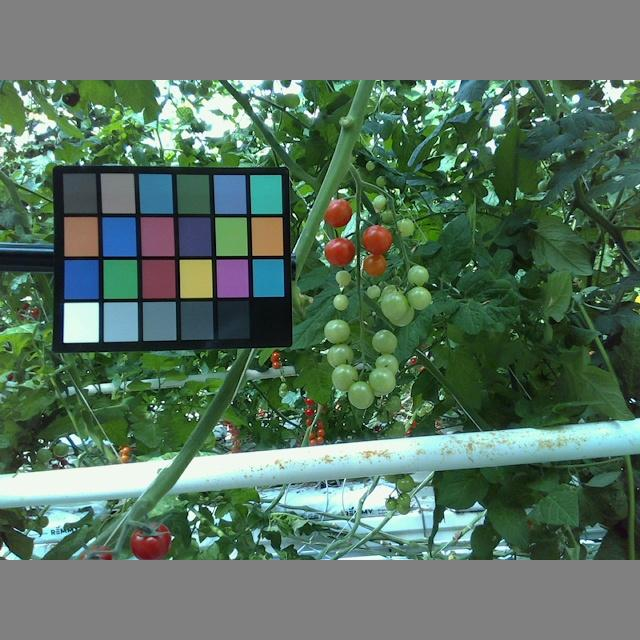green: (380, 288, 407, 320), (325, 342, 354, 370), (368, 367, 395, 397), (333, 364, 359, 394), (347, 380, 373, 410), (323, 317, 350, 344), (370, 329, 397, 356), (407, 284, 431, 312), (373, 354, 399, 379), (408, 264, 428, 285), (332, 292, 348, 310), (335, 270, 350, 286)
pink: (321, 236, 356, 267), (362, 224, 393, 254), (322, 198, 353, 227), (363, 250, 385, 277)
red: (128, 519, 172, 558)
